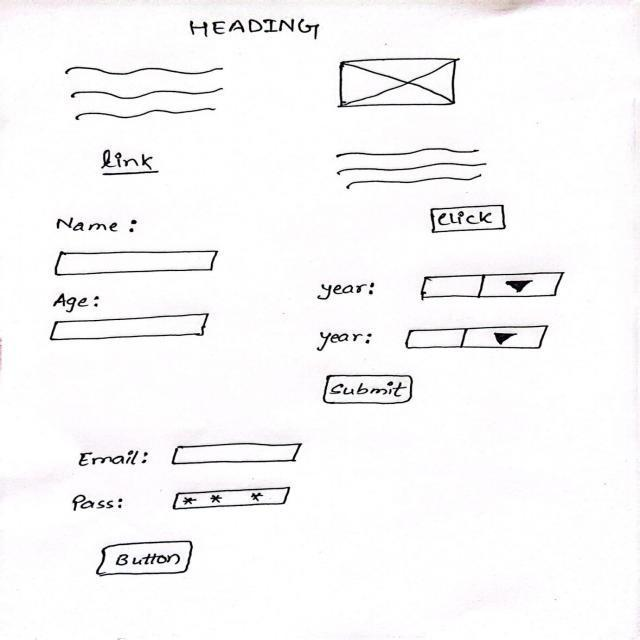textbox: (44, 247, 244, 281), (38, 316, 224, 346)
